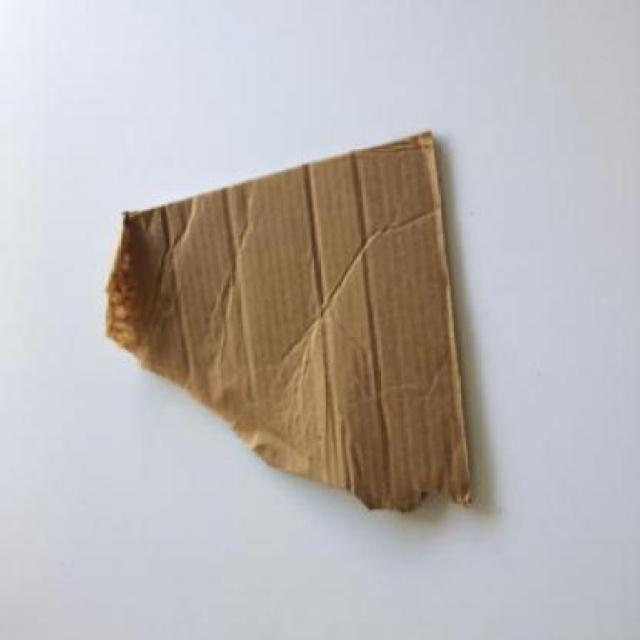box: (93, 126, 504, 533)
